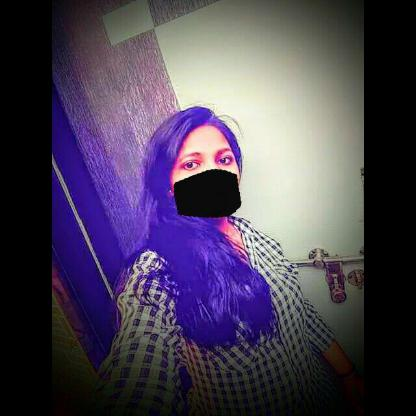Fabric/Cloth Mask: (168, 130, 246, 209)
